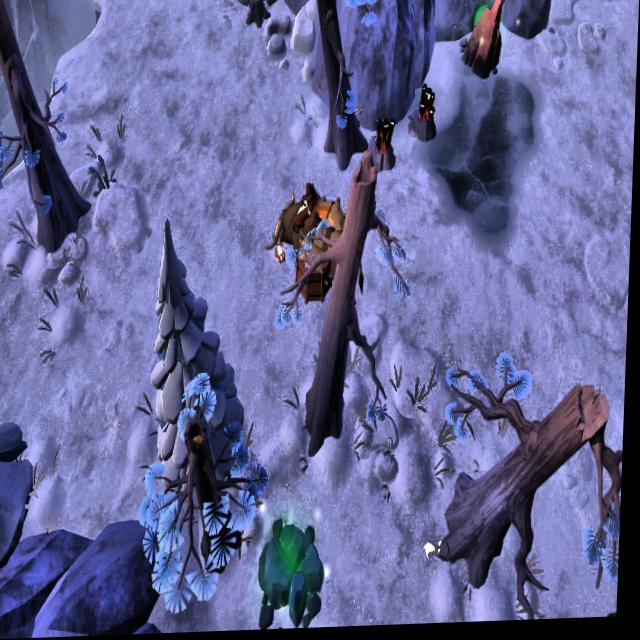ore_t5: (415, 81, 438, 127), (374, 119, 397, 157)
rock_t4: (257, 516, 331, 627)
rock_t5: (457, 0, 505, 79)
